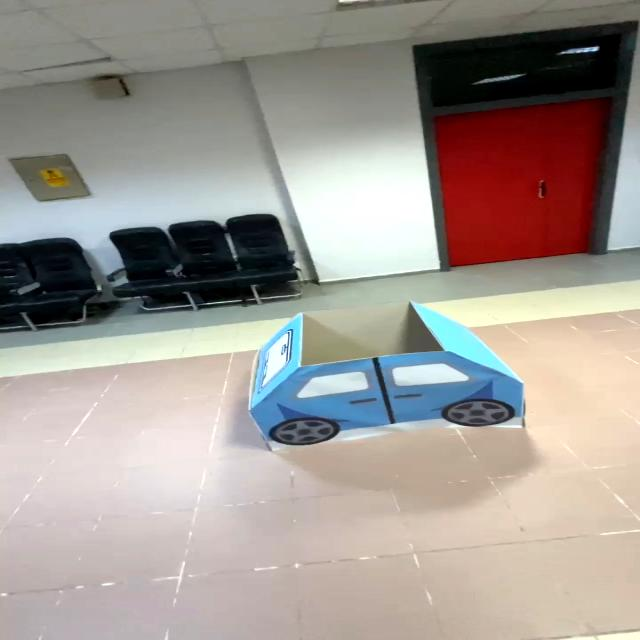blue_car: (235, 301, 552, 452)
